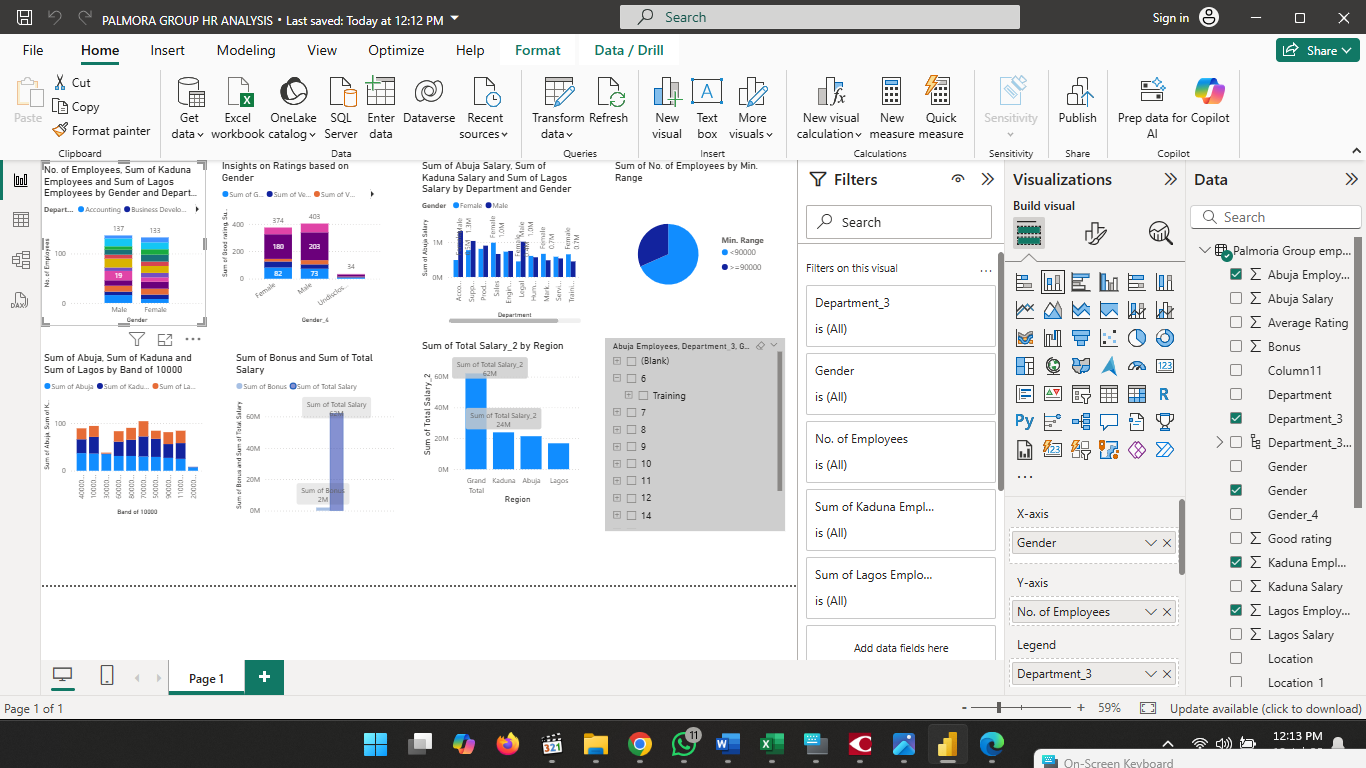

The page's visual inventory and layout, read from the dashboard file:
{"tool":"powerbi","page":{"name":"Page 1","canvas":[1280,720],"ordinal":0},"visuals":[{"type":"columnChart","fields":{"Category":["Palmoria Group emp-Cleaned data.Gender "],"Series":["Palmoria Group emp-Cleaned data.Department_3"],"Y":["Sum(Palmoria Group emp-Cleaned data.Abuja Employees)"]},"box":[0,1.7,279.4,279.4],"z":0},{"type":"columnChart","title":"Insights on Ratings based on Gender","fields":{"Category":["Palmoria Group emp-Cleaned data.Gender_4"],"Y":["Sum(Palmoria Group emp-Cleaned data.Good rating)","Sum(Palmoria Group emp-Cleaned data.Very good rating)","Sum(Palmoria Group emp-Cleaned data.Very Poor rating)","Sum(Palmoria Group emp-Cleaned data.Average Rating)","Sum(Palmoria Group emp-Cleaned data.Poor rating)"]},"box":[301.4,0,279.4,281.1],"z":1000},{"type":"clusteredColumnChart","fields":{"Category":["Palmoria Group emp-Cleaned data.Department_3"],"Series":["Palmoria Group emp-Cleaned data.Gender "],"Y":["Sum(Palmoria Group emp-Cleaned data.Abuja Salary)"]},"box":[640,0,279.4,281.1],"z":2000},{"type":"pieChart","fields":{"Category":["Palmoria Group emp-Cleaned data.Min. Range"],"Y":["Sum(Palmoria Group emp-Cleaned data.No. of Employees)"]},"box":[966.8,0,279.4,281.1],"z":3000},{"type":"columnChart","fields":{"Category":["Palmoria Group emp-Cleaned data (2).Band of 10000"],"Y":["Sum(Palmoria Group emp-Cleaned data (2).Abuja)","Sum(Palmoria Group emp-Cleaned data (2).Kaduna)","Sum(Palmoria Group emp-Cleaned data (2).Lagos)"]},"box":[0,325.1,279.4,281.1],"z":4000},{"type":"clusteredColumnChart","fields":{"Y":["Sum(Palmoria Group emp-Cleaned data.Bonus)","Sum(Palmoria Group emp-Cleaned data.Total Salary)"]},"box":[325.1,325.1,279.4,282.8],"z":5000},{"type":"columnChart","fields":{"Category":["Palmoria Group emp-Cleaned data (2).Location_1"],"Y":["Sum(Palmoria Group emp-Cleaned data (2).Total Salary_2)"]},"box":[640,304.8,279.4,282.8],"z":6000},{"type":"slicer","fields":{"Values":["Palmoria Group emp-Cleaned data.Abuja Employees","Palmoria Group emp-Cleaned data.Department_3","Palmoria Group emp-Cleaned data.Gender ","Palmoria Group emp-Cleaned data.Average Rating","Palmoria Group emp-Cleaned data.Gender_4","Palmoria Group emp-Cleaned data.Good rating","Palmoria Group emp-Cleaned data.Department_3","Palmoria Group emp-Cleaned data.Gender ","Palmoria Group emp-Cleaned data.Kaduna Salary","Palmoria Group emp-Cleaned data.Lagos Salary","Palmoria Group emp-Cleaned data.Min. Range","Palmoria Group emp-Cleaned data.No. of Employees"]},"box":[954.9,301.4,304.8,326.8],"z":7000}]}

Visuals, with their boxes on the page's 1280x720 design canvas (x1, y1, x2, y2). These are canvas units, not pixel positions in the 1366x768 screenshot, which may show the page scaled, cropped or inside an application window:
columnChart - Palmoria Group emp-Cleaned data.Gender  x Palmoria Group emp-Cleaned data.Department_3: <box>0,2,279,281</box>
"Insights on Ratings based on Gender" columnChart: <box>301,0,581,281</box>
clusteredColumnChart - Palmoria Group emp-Cleaned data.Department_3 x Palmoria Group emp-Cleaned data.Gender : <box>640,0,919,281</box>
pieChart - Palmoria Group emp-Cleaned data.Min. Range x Sum(Palmoria Group emp-Cleaned data.No. of Employees): <box>967,0,1246,281</box>
columnChart - Palmoria Group emp-Cleaned data (2).Band of 10000 x Sum(Palmoria Group emp-Cleaned data (2).Abuja): <box>0,325,279,606</box>
clusteredColumnChart - Sum(Palmoria Group emp-Cleaned data.Bonus) x Sum(Palmoria Group emp-Cleaned data.Total Salary): <box>325,325,604,608</box>
columnChart - Palmoria Group emp-Cleaned data (2).Location_1 x Sum(Palmoria Group emp-Cleaned data (2).Total Salary_2): <box>640,305,919,588</box>
slicer - Palmoria Group emp-Cleaned data.Abuja Employees x Palmoria Group emp-Cleaned data.Department_3: <box>955,301,1260,628</box>
